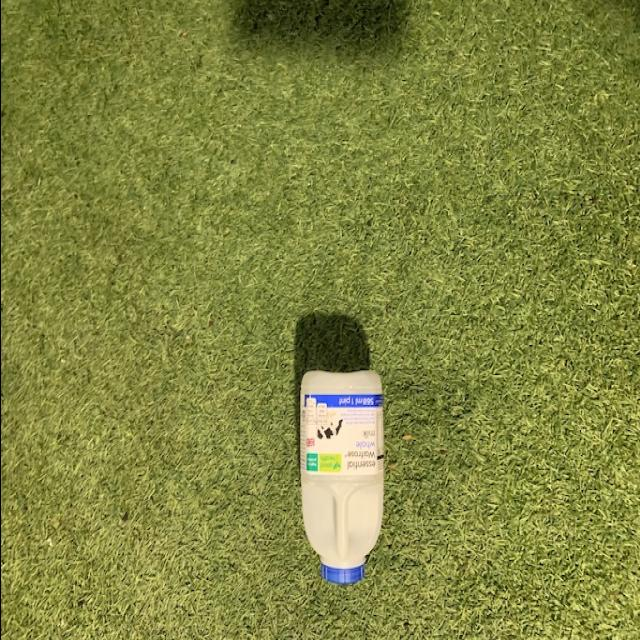HDPEM: (298, 360, 384, 586)
